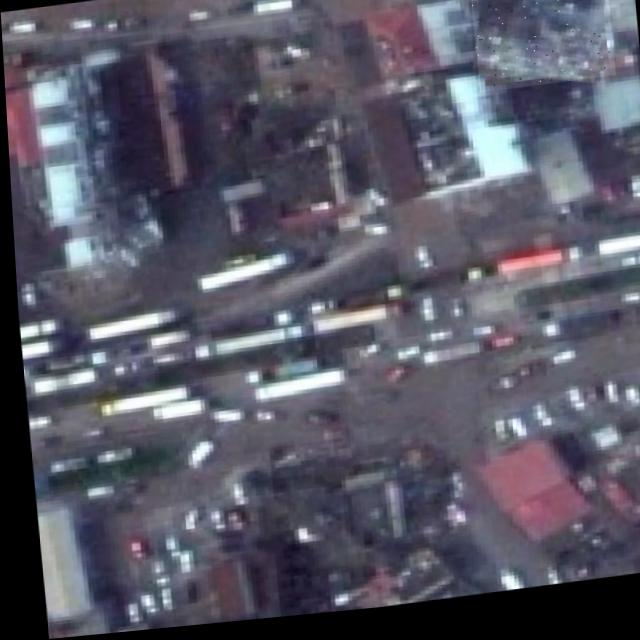Rubble: (466, 0, 613, 102)
